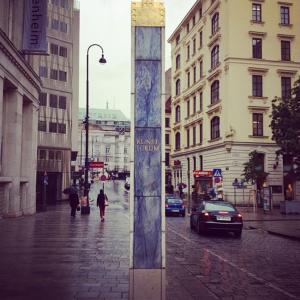Vehicle-registration-plate: (219, 216, 230, 221), (172, 210, 180, 215)
